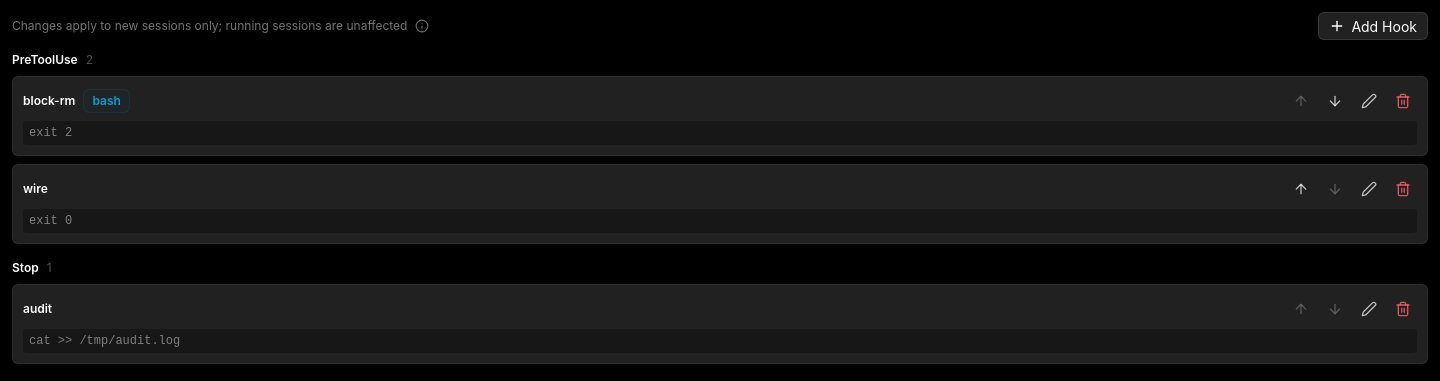
Test: HooksSettings › 删除条目
Expected: the text "audit" is shown, [23,301,52,317]
# 列表按生命周期顺序渲染，PreToolUse 在前：首条删除按钮属于 block-rm。
What coordinates should you click on to do the following:
click the button named "Delete" in the row of "bash"
I would click on:
 (1403, 101)
Its box is [1389,87,1417,115].
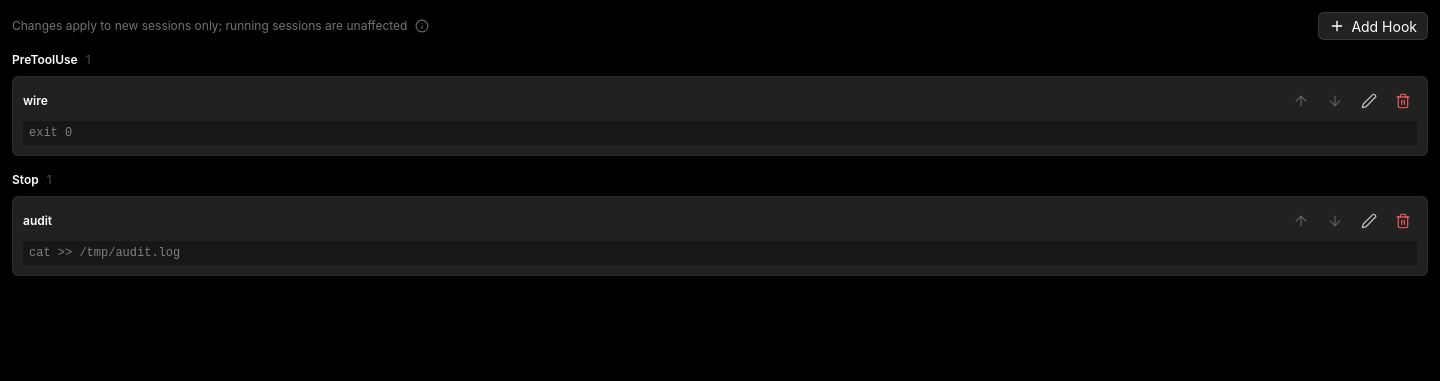
Expected: the text "audit" is shown, [23,213,52,229]
Expected: the text "block-rm" is gone
